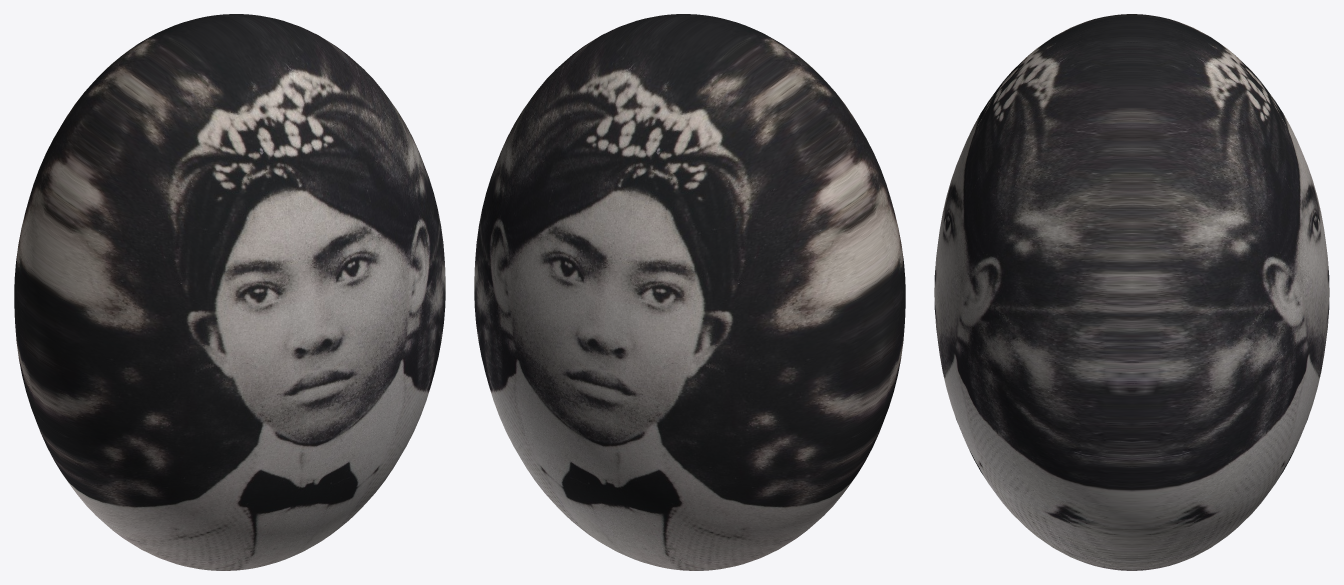
The picture shows the model from 3 angles, left to right: view 1: azimuth 30°, elevation 25°; view 2: azimuth 150°, elevation 25°; view 3: azimuth 270°, elevation 25°; orthographic projection.
Parts seen in each view (by area): view 1: head; view 2: head; view 3: head.
Part boxes in pixels (<box>): head: <box>14,14,445,570</box>; head: <box>474,14,905,570</box>; head: <box>934,14,1329,570</box>.
Bounding box in the file's own units: 1.52 × 2 × 1.36.
Materials: 1 (1 with a texture image).
